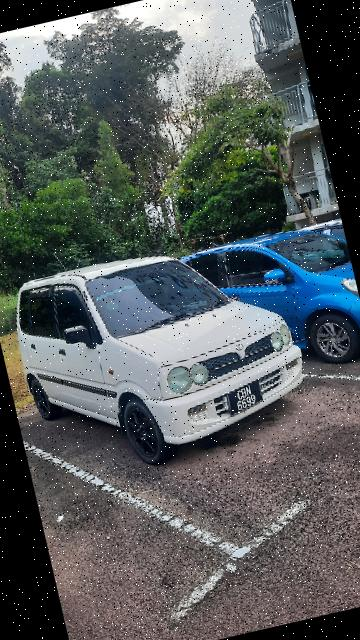License_Plate: (224, 379, 269, 418)
car: (2, 214, 321, 489), (176, 217, 360, 392)
